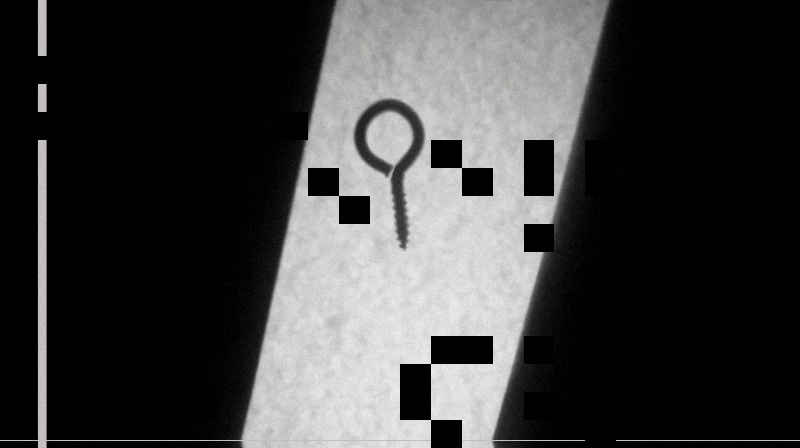O001: (349, 94, 427, 252)
